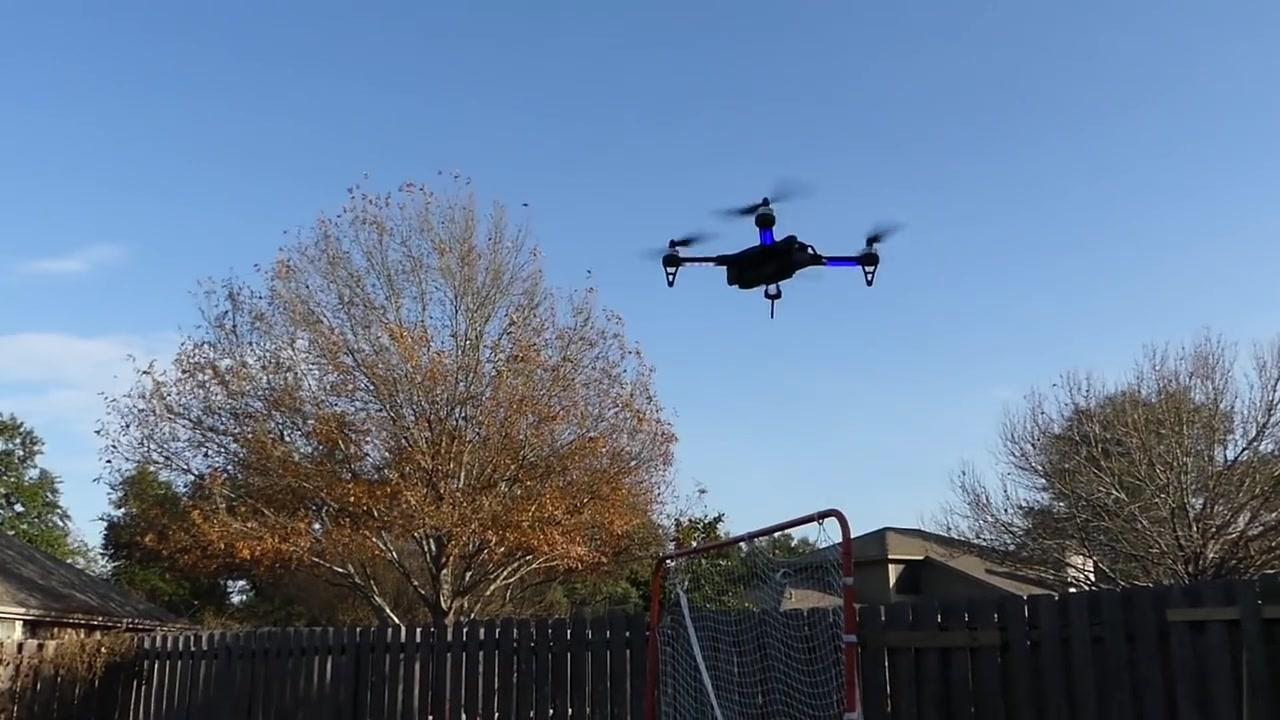UAV: (642, 184, 912, 320)
